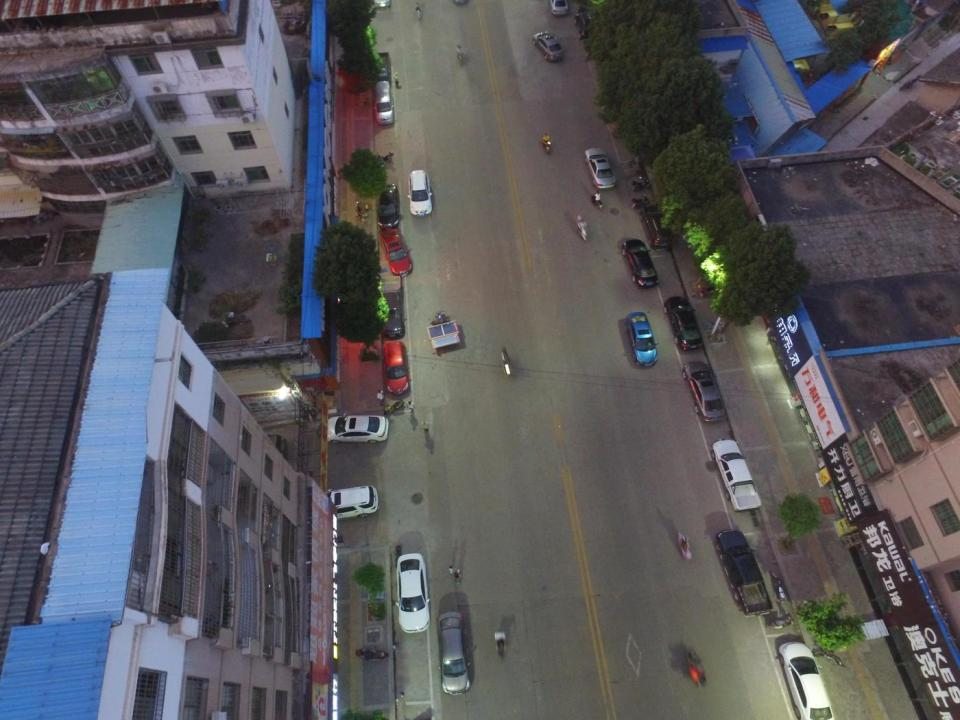car: (777, 640, 836, 720), (435, 611, 472, 695), (395, 552, 431, 633), (681, 360, 727, 421), (314, 486, 380, 521), (663, 296, 705, 351), (322, 412, 390, 444), (625, 311, 659, 367), (622, 238, 659, 288), (379, 228, 413, 277), (639, 204, 673, 251), (383, 340, 409, 395), (584, 148, 616, 190), (407, 169, 432, 217), (380, 292, 405, 338), (376, 184, 400, 229), (532, 31, 564, 61), (573, 12, 595, 40), (548, 0, 569, 16)
truck: (714, 530, 775, 618), (711, 437, 763, 512), (372, 51, 391, 81)
van: (373, 80, 395, 125)
